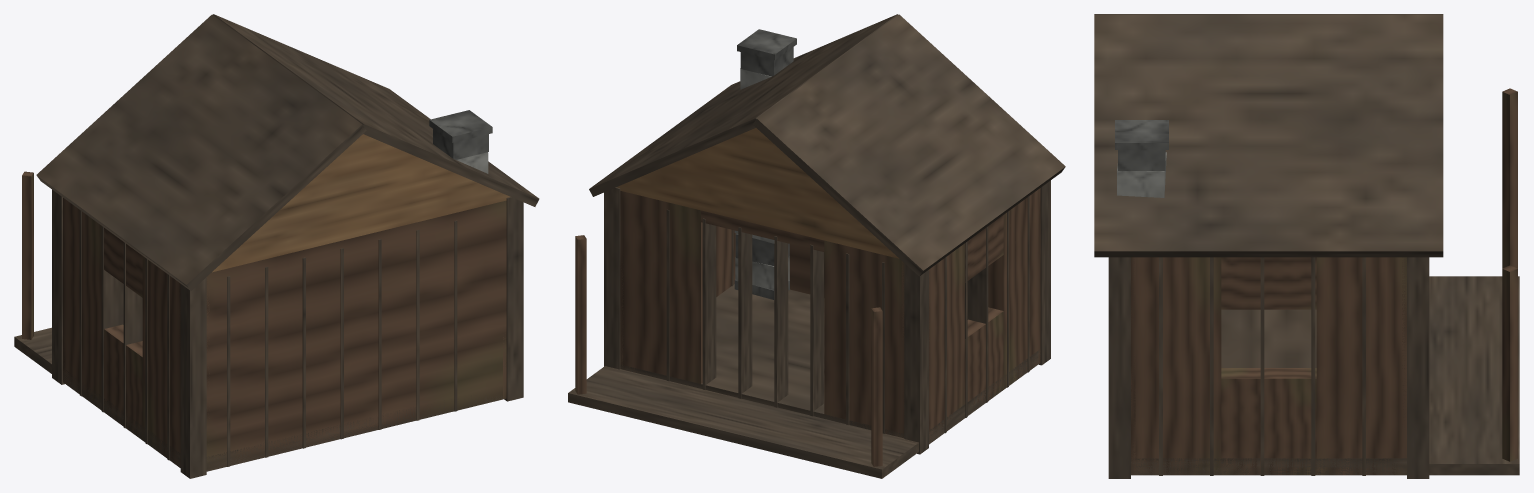
The model's file is SM_POI_Cabin_LOD1.fbx.
3 renders of one model, left to right at view 1: azimuth 30°, elevation 25°; view 2: azimuth 150°, elevation 25°; view 3: azimuth 270°, elevation 25°, orthographic. The views are drawn at different scales.
Parts seen in each view (by area): view 1: SM_POI_Cabin_LOD1; view 2: SM_POI_Cabin_LOD1; view 3: SM_POI_Cabin_LOD1.
Boxes of the visible parts, box(x1,y1,x2,y2) form: SM_POI_Cabin_LOD1: box(14, 14, 539, 478); SM_POI_Cabin_LOD1: box(568, 14, 1065, 478); SM_POI_Cabin_LOD1: box(1094, 14, 1519, 478).
Size of the model in its own units: 14.92 by 12.87 by 13.4.
1 material, 1 textured.
